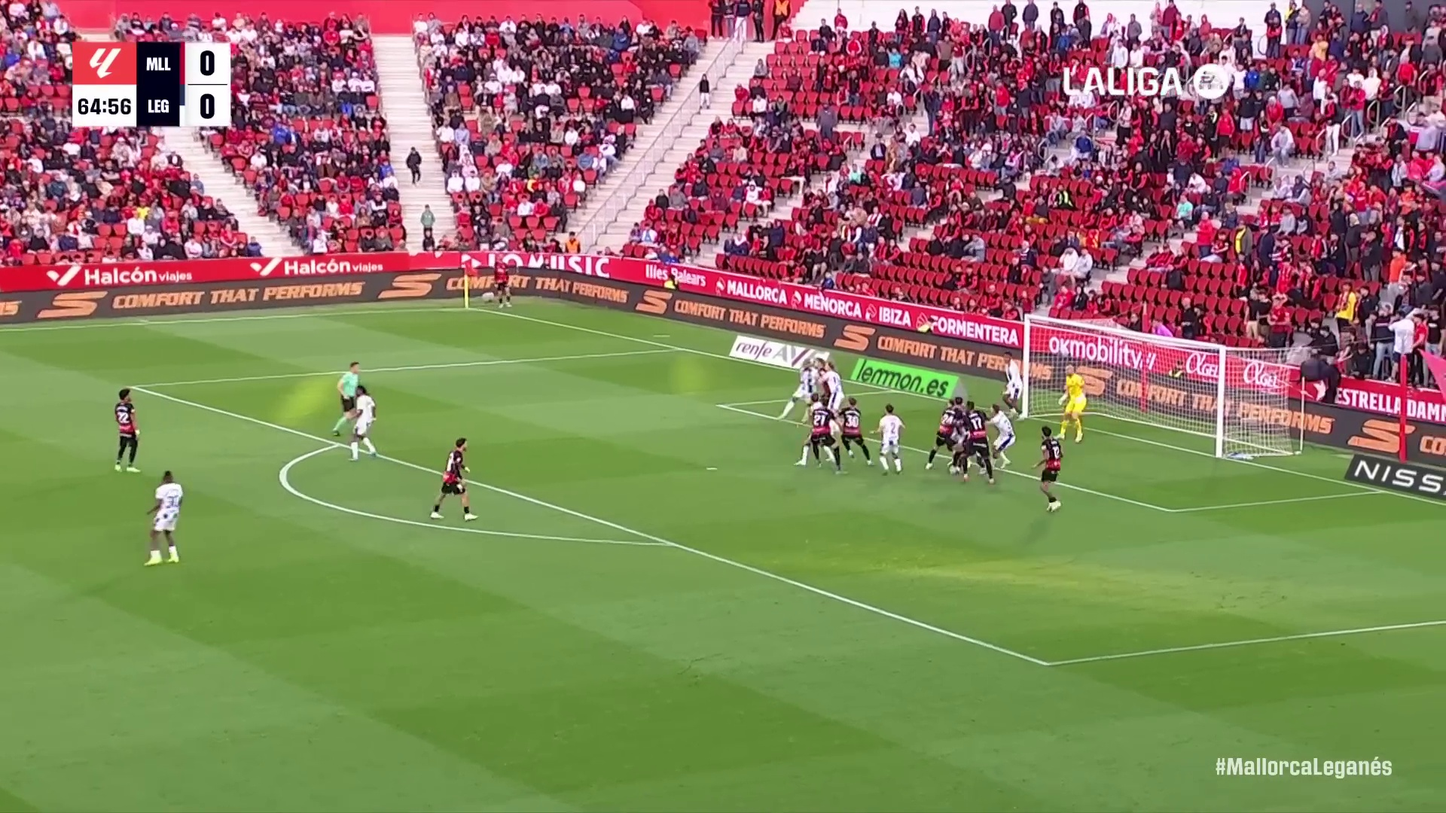player: (428, 436, 480, 522), (143, 470, 185, 567), (792, 393, 841, 466), (959, 400, 996, 484), (811, 397, 850, 475), (1031, 425, 1064, 514), (1052, 364, 1088, 444), (775, 357, 818, 422), (836, 396, 873, 471), (869, 403, 907, 476), (924, 400, 961, 473), (112, 386, 142, 474), (347, 384, 380, 462), (987, 403, 1017, 470), (998, 351, 1025, 419), (951, 394, 973, 474), (818, 362, 845, 409), (493, 251, 514, 309), (812, 358, 832, 408)
referee: (331, 361, 364, 436)
